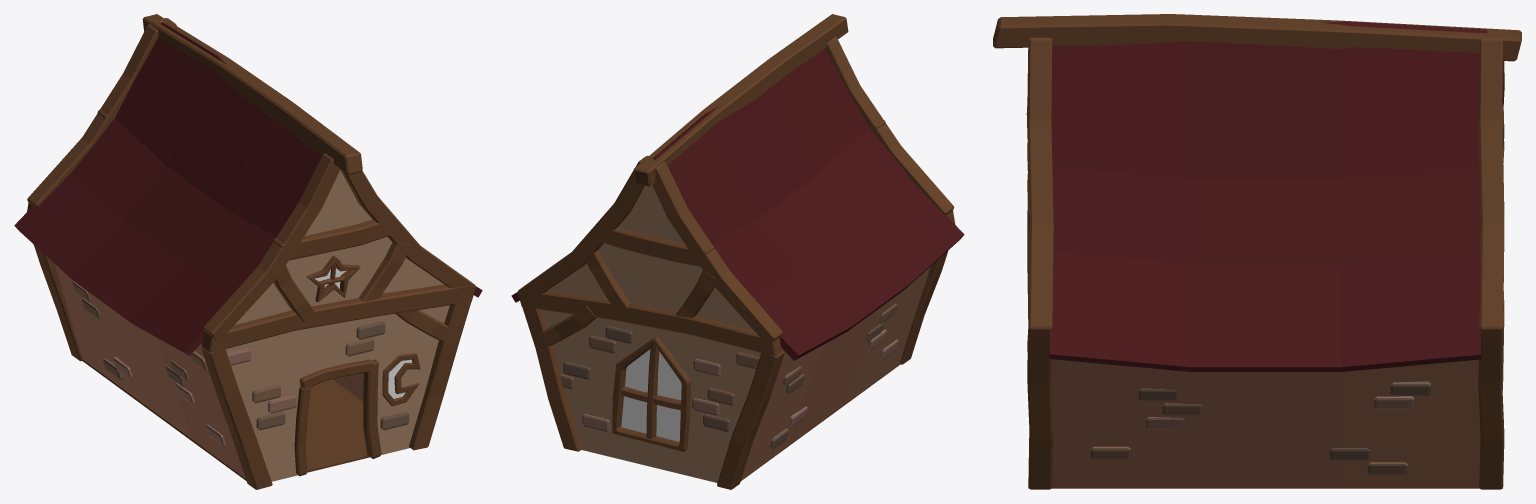
The model's file is house.fbx.
3 renders of one model, left to right at view 1: azimuth 30°, elevation 25°; view 2: azimuth 150°, elevation 25°; view 3: azimuth 270°, elevation 25°, orthographic. The views are drawn at different scales.
Parts seen in each view (by area): view 1: Plane.003, Plane.001, Plane.004, Cube.024, Cube.002, Cube.062, Cube.004, Cube.001, Cube.016, Cube, Cube.003, Cube.005 (+9 smaller); view 2: Plane.003, Plane.005, Plane.004, Cube.024, Cube.014, Cube.016, Cube.013, Cube.015, Plane.009, Cube.004, Plane.008, Cube.012 (+7 smaller); view 3: Plane, Plane.002, Cube.024, Cube.015, Cube.003, Cube, Cube.012, Cube.062, Plane.003, Cube.058, Cube.060.
Part boxes in pixels (<box>): Plane.003: <box>14,22,322,355</box>; Plane.001: <box>225,170,449,481</box>; Plane.004: <box>55,264,245,477</box>; Cube.024: <box>142,14,362,174</box>; Cube.002: <box>202,284,473,352</box>; Cube.062: <box>82,359,369,480</box>; Cube.004: <box>203,153,340,343</box>; Cube.001: <box>201,346,272,489</box>; Cube.016: <box>27,24,158,207</box>; Cube: <box>409,295,472,450</box>; Cube.003: <box>340,169,475,301</box>; Cube.005: <box>273,219,392,260</box>; Plane.003: <box>653,49,964,360</box>; Plane.005: <box>542,159,760,482</box>; Plane.004: <box>742,266,930,477</box>; Cube.024: <box>633,14,848,186</box>; Cube.014: <box>522,290,783,355</box>; Cube.016: <box>652,162,782,346</box>; Cube.013: <box>717,350,784,489</box>; Cube.015: <box>517,156,654,306</box>; Plane.009: <box>621,349,681,441</box>; Cube.004: <box>825,36,954,214</box>; Plane.008: <box>612,336,690,451</box>; Cube.012: <box>522,300,582,451</box>; Plane: <box>1049,41,1481,371</box>; Plane.002: <box>1051,359,1480,486</box>; Cube.024: <box>993,14,1521,61</box>; Cube.015: <box>1478,30,1504,344</box>; Cube.003: <box>1027,37,1053,344</box>; Cube: <box>1027,333,1053,489</box>; Cube.012: <box>1478,342,1504,489</box>; Cube.062: <box>1052,486,1479,488</box>; Plane.003: <box>1321,21,1487,33</box>; Cube.058: <box>1390,381,1430,395</box>; Cube.060: <box>1090,446,1130,459</box>.
Bounding box in the file's own units: 400 × 419 × 480.
